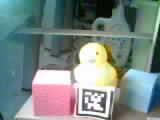duck: (68, 39, 115, 91)
